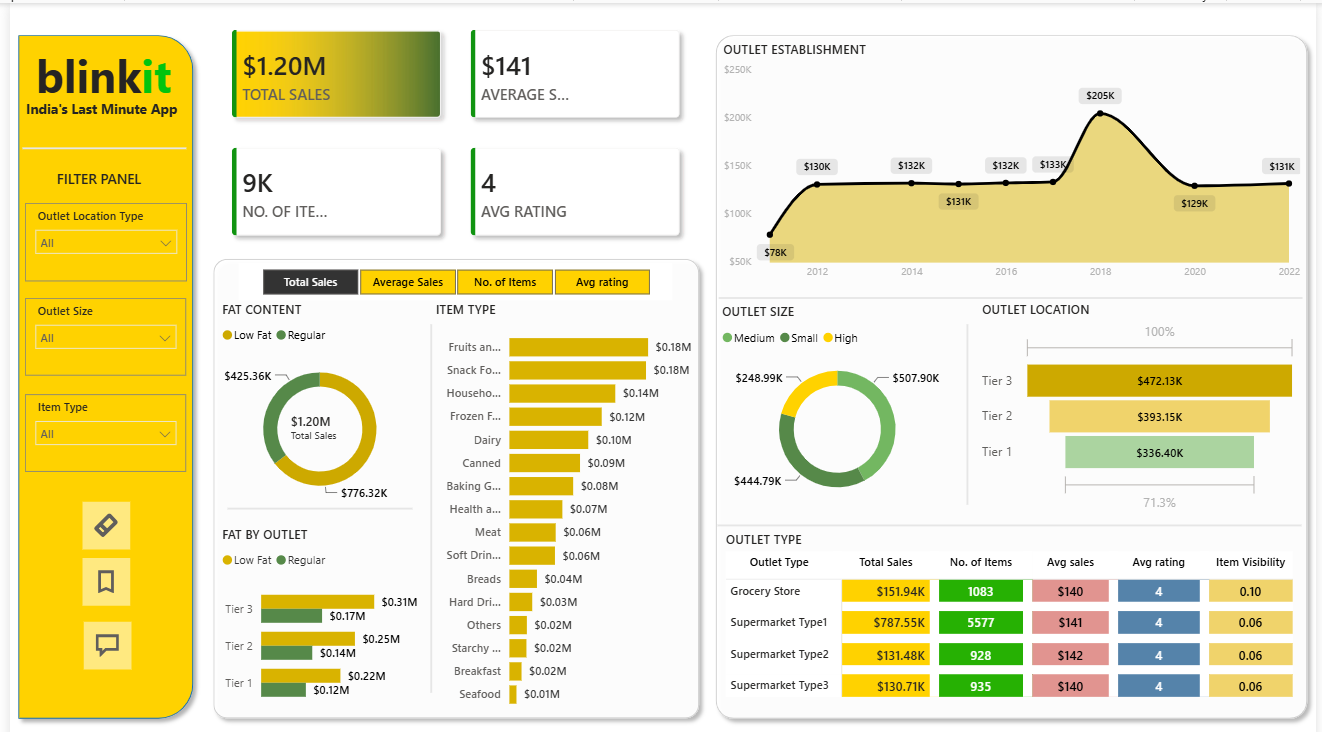

The page's visual inventory and layout, read from the dashboard file:
{"tool":"powerbi","page":{"name":"Page 1","canvas":[1400,800],"ordinal":0},"visuals":[{"type":"shape","box":[0,25.6,205.6,751.1],"z":0},{"type":"textbox","box":[22.5,40.5,163.6,82.5],"z":1000},{"type":"textbox","box":[12.3,98.5,181.5,32.3],"z":2000},{"type":"cardVisual","fields":{"Data":["BlinkIT Grocery Data.Total Sales","BlinkIT Grocery Data.Average Sales","BlinkIT Grocery Data.No. of Items","BlinkIT Grocery Data.Avg rating"]},"box":[209.1,0,538.9,278.8],"z":3000},{"type":"shape","box":[209.1,265.4,538.9,510.7],"z":4000},{"type":"donutChart","title":"FAT CONTENT","fields":{"Y":["BlinkIT Grocery Data.Avg sales"],"Category":["BlinkIT Grocery Data.Item Fat Content"]},"box":[222.5,319,219.8,230.6],"z":5000},{"type":"slicer","fields":{"Values":["Parameter.Parameter"]},"box":[245.3,278.8,465.1,40.2],"z":6000},{"type":"cardVisual","fields":{"Data":["BlinkIT Grocery Data.Avg sales"]},"box":[272.3,419.1,119.1,69.1],"z":7000},{"type":"clusteredBarChart","title":"FAT BY OUTLET","fields":{"Y":["BlinkIT Grocery Data.Avg sales"],"Category":["BlinkIT Grocery Data.Outlet Location Type"],"Series":["BlinkIT Grocery Data.Item Fat Content"]},"box":[222.5,560.3,219.8,206.4],"z":8000},{"type":"shape","box":[233.2,534.9,198.4,14.7],"z":9000},{"type":"shape","box":[442.4,344.5,18.8,395.4],"z":10000},{"type":"barChart","title":"ITEM TYPE","fields":{"Y":["BlinkIT Grocery Data.Avg sales"],"Category":["BlinkIT Grocery Data.Item Type"]},"box":[451.1,318.9,284.4,447.8],"z":11000},{"type":"shape","box":[747.8,25.6,652.2,751.1],"z":12000},{"type":"lineChart","title":"OUTLET ESTABLISHMENT ","fields":{"Category":["BlinkIT Grocery Data.Outlet Establishment Year"],"Y":["BlinkIT Grocery Data.Total Sales"]},"box":[760.1,40.2,628.7,265.4],"z":13000},{"type":"shape","box":[760.1,305.6,626,21.4],"z":14000},{"type":"donutChart","title":"OUTLET SIZE","fields":{"Y":["BlinkIT Grocery Data.Total Sales"],"Category":["BlinkIT Grocery Data.Outlet Size"]},"box":[758.7,321.7,257.4,225.2],"z":15000},{"type":"shape","box":[1016.2,345,21.2,193.8],"z":16000},{"type":"funnel","title":"OUTLET LOCATION","fields":{"Y":["BlinkIT Grocery Data.Total Sales"],"Category":["BlinkIT Grocery Data.Outlet Location Type"]},"box":[1037.5,318.8,347.5,231.2],"z":17000},{"type":"shape","box":[758.8,550,626.2,21.2],"z":18000},{"type":"pivotTable","title":"OUTLET TYPE","fields":{"Rows":["BlinkIT Grocery Data.Outlet Type"],"Values":["BlinkIT Grocery Data.Total Sales","BlinkIT Grocery Data.No. of Items","BlinkIT Grocery Data.Average Sales","BlinkIT Grocery Data.Avg rating","Avg(BlinkIT Grocery Data.Item Visibility)"]},"box":[762.5,566.2,623.8,196.2],"z":19000},{"type":"slicer","fields":{"Values":["BlinkIT Grocery Data.Outlet Location Type"]},"box":[16.2,215,173.8,83.8],"z":20000},{"type":"slicer","fields":{"Values":["BlinkIT Grocery Data.Outlet Size"]},"box":[16.1,316.4,172.9,83.1],"z":21000},{"type":"slicer","fields":{"Values":["BlinkIT Grocery Data.Item Type"]},"box":[16.1,419.6,172.9,83.1],"z":22000},{"type":"actionButton","box":[77.7,534.9,50.9,50.9],"z":23000},{"type":"actionButton","box":[77.7,595.2,50.9,50.9],"z":24000},{"type":"textbox","box":[22.5,172.5,145,30],"z":25000},{"type":"actionButton","box":[79.2,663.3,50.8,50.8],"z":26000},{"type":"shape","box":[12.9,140,175.7,32.9],"z":27000}]}

Visuals, with their boxes on the page's 1400x800 design canvas (x1, y1, x2, y2). These are canvas units, not pixel positions in the 1322x732 screenshot, which may show the page scaled, cropped or inside an application window:
shape: (0,26,206,777)
textbox: (22,40,186,123)
textbox: (12,98,194,131)
cardVisual - BlinkIT Grocery Data.Total Sales x BlinkIT Grocery Data.Average Sales: (209,0,748,279)
shape: (209,265,748,776)
"FAT CONTENT" donutChart: (222,319,442,550)
slicer - Parameter.Parameter: (245,279,710,319)
cardVisual - BlinkIT Grocery Data.Avg sales: (272,419,391,488)
"FAT BY OUTLET" clusteredBarChart: (222,560,442,767)
shape: (233,535,432,550)
shape: (442,344,461,740)
"ITEM TYPE" barChart: (451,319,736,767)
shape: (748,26,1400,777)
"OUTLET ESTABLISHMENT " lineChart: (760,40,1389,306)
shape: (760,306,1386,327)
"OUTLET SIZE" donutChart: (759,322,1016,547)
shape: (1016,345,1037,539)
"OUTLET LOCATION" funnel: (1038,319,1385,550)
shape: (759,550,1385,571)
"OUTLET TYPE" pivotTable: (762,566,1386,762)
slicer - BlinkIT Grocery Data.Outlet Location Type: (16,215,190,299)
slicer - BlinkIT Grocery Data.Outlet Size: (16,316,189,400)
slicer - BlinkIT Grocery Data.Item Type: (16,420,189,503)
actionButton: (78,535,129,586)
actionButton: (78,595,129,646)
textbox: (22,172,168,202)
actionButton: (79,663,130,714)
shape: (13,140,189,173)
